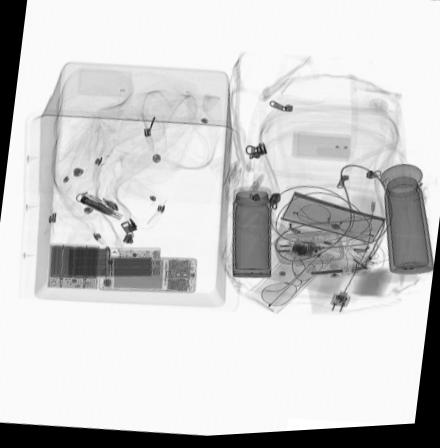Powerbank: (61, 246, 161, 279), (45, 242, 102, 292)
